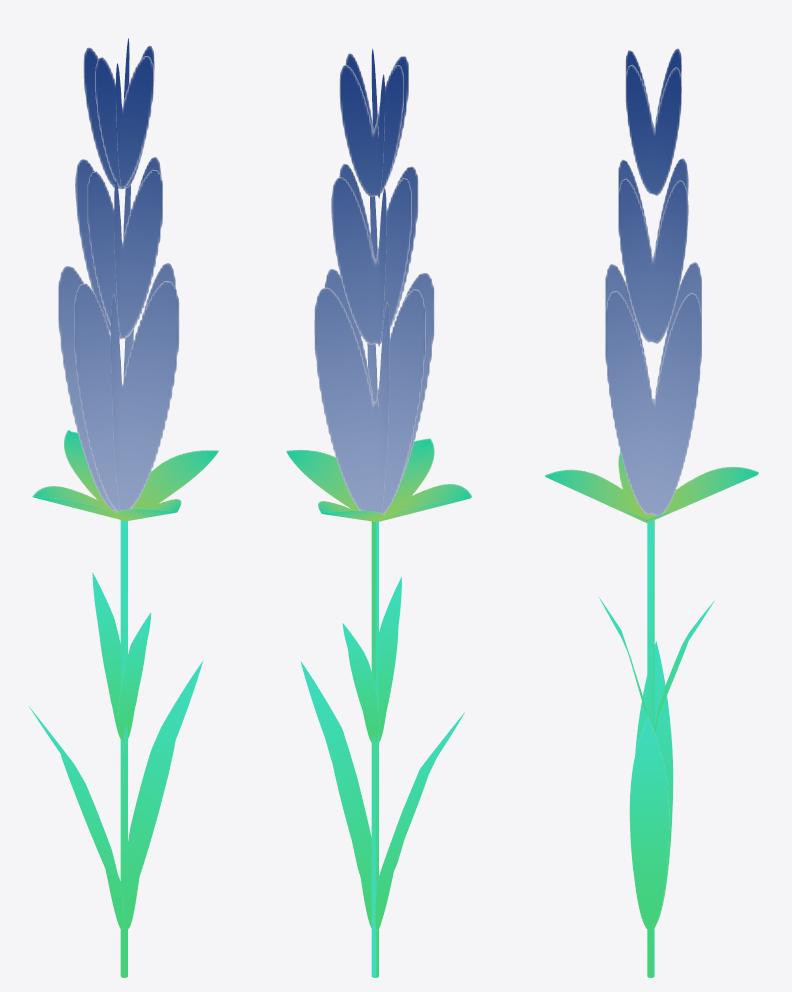
Rendered from Flowers_n03_21.fbx.
3 renders of one model, left to right at view 1: azimuth 30°, elevation 25°; view 2: azimuth 150°, elevation 25°; view 3: azimuth 270°, elevation 25°, orthographic.
Parts seen in each view (by area): view 1: polySurface623; view 2: polySurface623; view 3: polySurface623.
Boxes of the visible parts, bbox=[...] form: polySurface623: bbox=[29, 38, 218, 977]; polySurface623: bbox=[286, 48, 471, 977]; polySurface623: bbox=[545, 48, 758, 977].
Bounding box in the file's own units: 28.59 × 116 × 28.58.
Materials: 1 (1 with a texture image).
